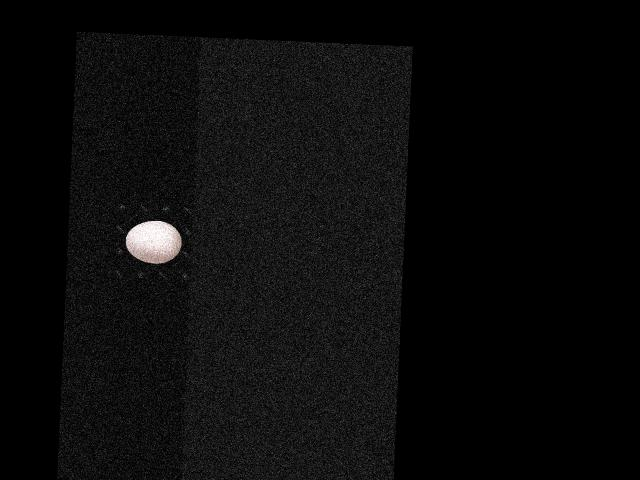egg: (125, 219, 182, 263)
